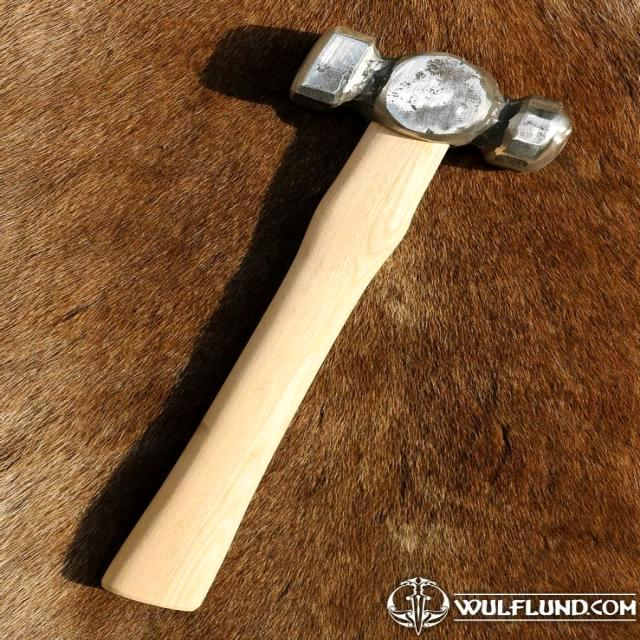hammer: (73, 22, 582, 622)
